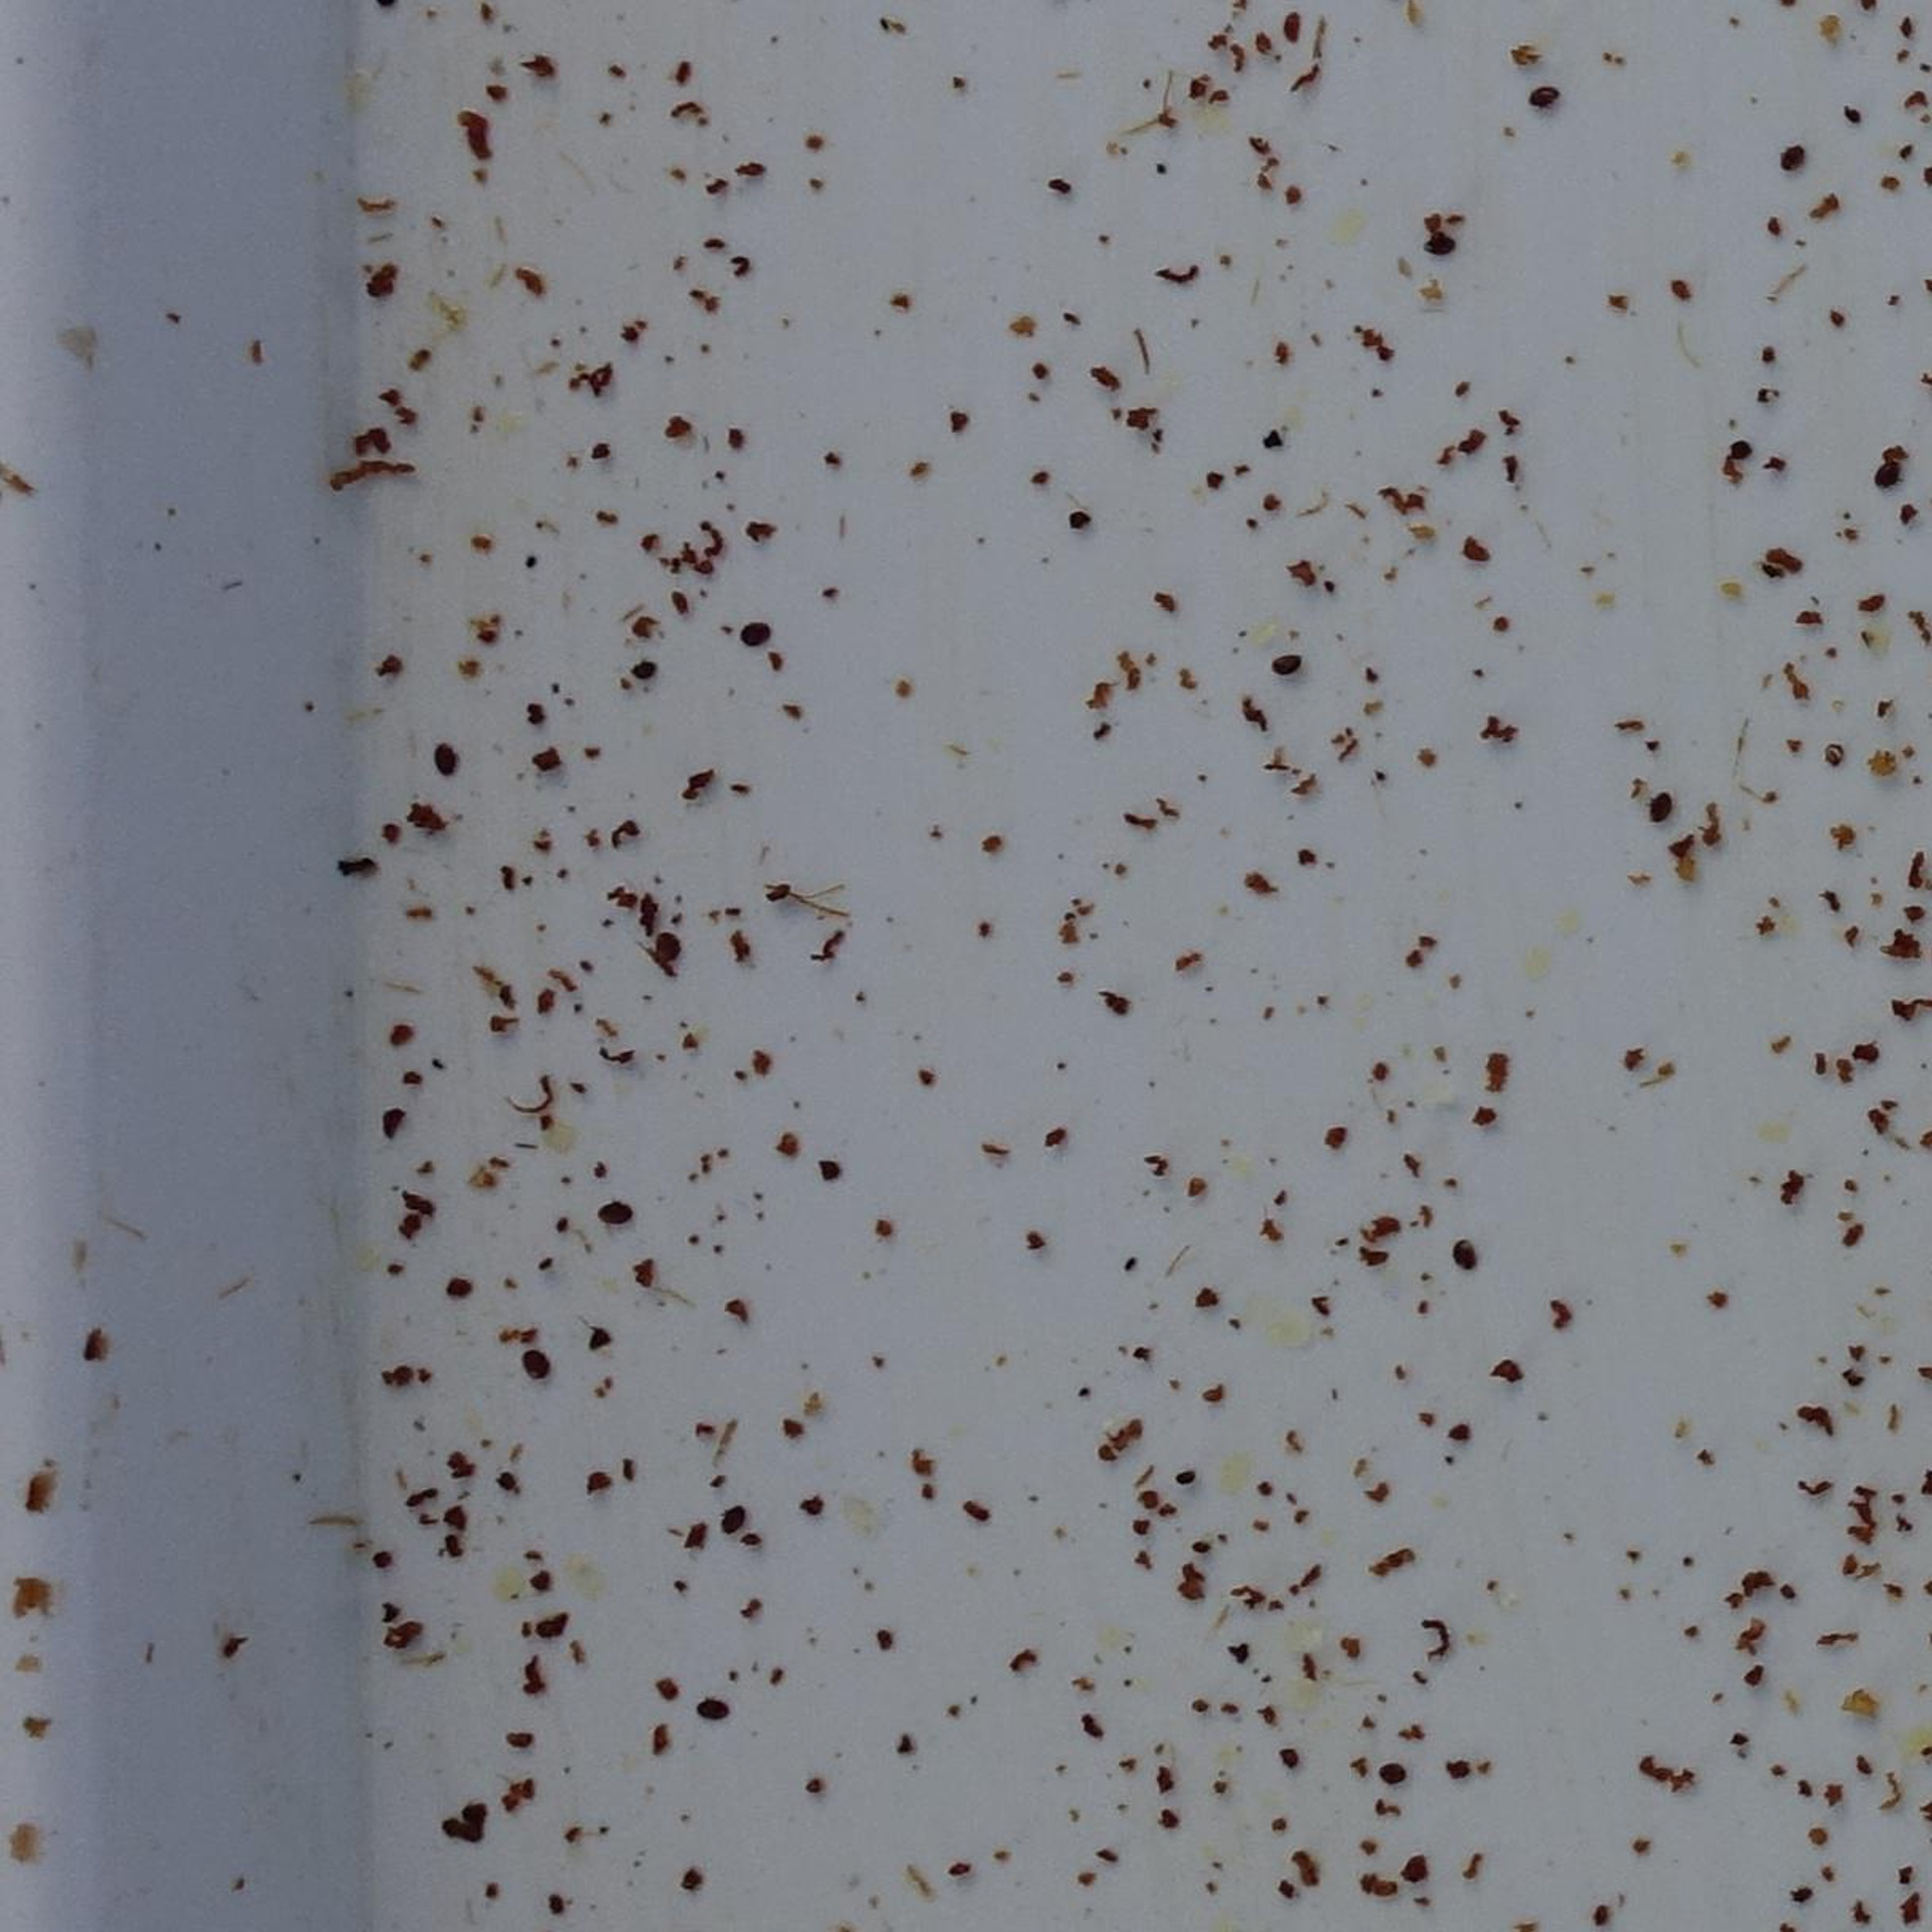Varroa: (656, 925, 683, 952), (603, 1198, 626, 1223), (435, 748, 458, 771), (1279, 651, 1302, 674), (524, 1353, 547, 1376), (1534, 83, 1555, 106), (709, 1698, 731, 1721), (1428, 234, 1449, 255), (1458, 1242, 1477, 1265), (1875, 462, 1895, 483), (1780, 156, 1799, 177), (747, 621, 764, 640), (1385, 1762, 1403, 1782), (1656, 796, 1674, 814), (724, 1513, 741, 1530)
